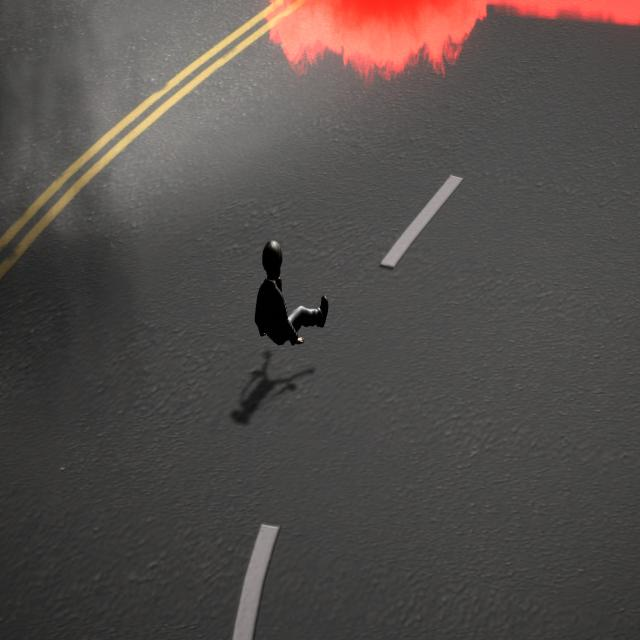Human: (250, 238, 329, 347)
